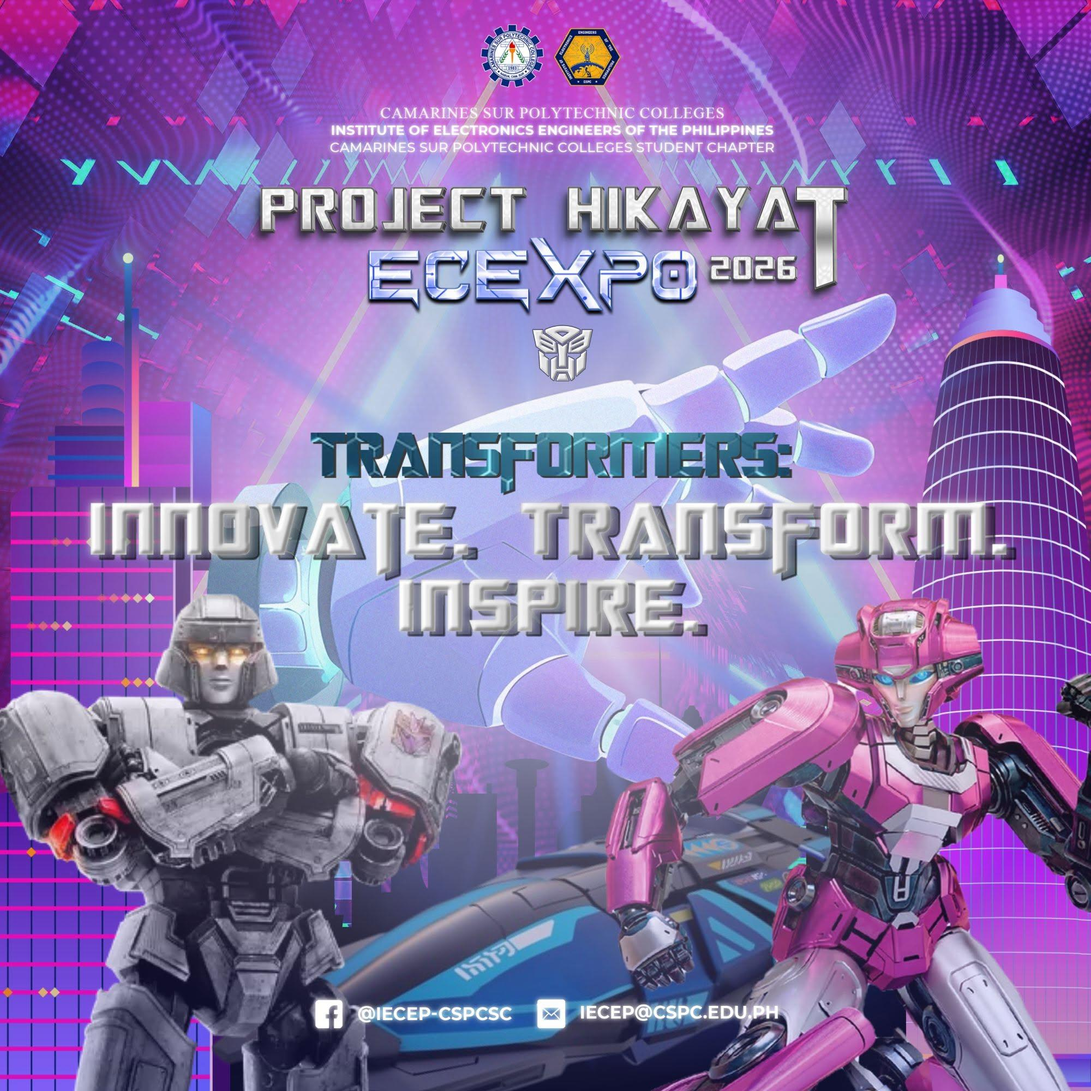embellishment: (595, 582, 1090, 1090), (0, 580, 470, 1090), (528, 323, 593, 387), (532, 994, 571, 1034), (313, 995, 347, 1032)
logo: (550, 20, 626, 91), (478, 19, 549, 92)
text: (85, 423, 1023, 643), (254, 180, 859, 320), (324, 99, 780, 159), (579, 999, 784, 1027), (356, 998, 518, 1026)
